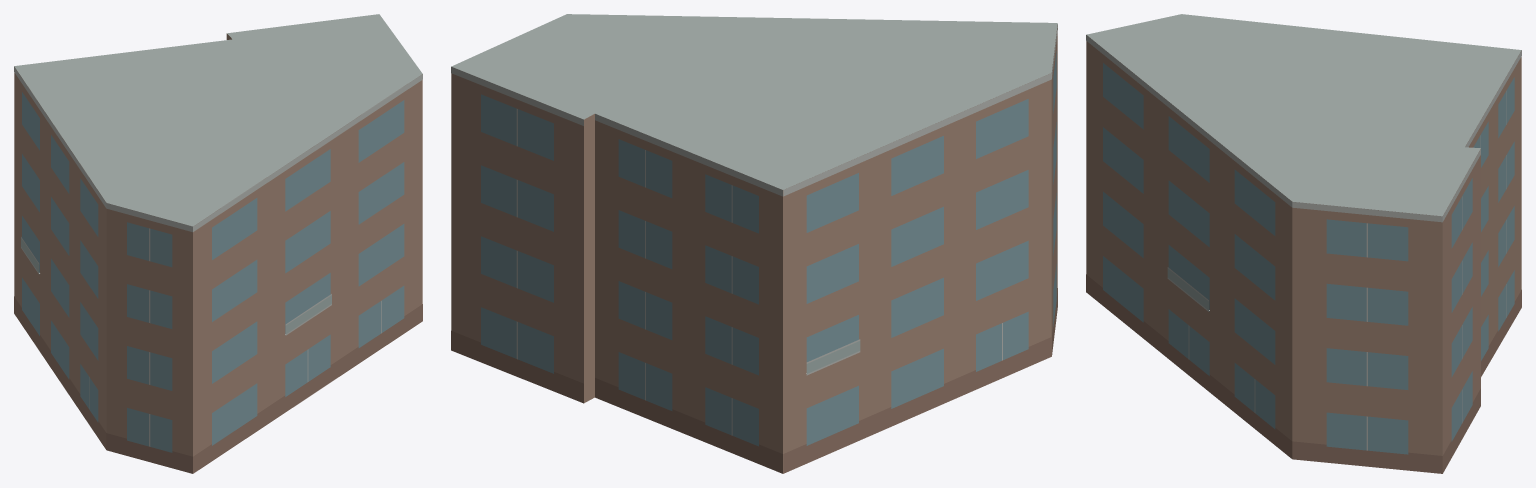
Rendered from survey-upis-32880962.glb.
3 views of the same model, side by side, from view 1: azimuth 30°, elevation 25°; view 2: azimuth 150°, elevation 25°; view 3: azimuth 270°, elevation 25° (orthographic). The views are drawn at different scales.
Parts seen in each view (by area): view 1: survey-upis-32880962.tmp; view 2: survey-upis-32880962.tmp; view 3: survey-upis-32880962.tmp.
Boxes of the visible parts, x1,y1,x2,y2 form: survey-upis-32880962.tmp: [14, 14, 422, 473]; survey-upis-32880962.tmp: [451, 14, 1057, 473]; survey-upis-32880962.tmp: [1086, 14, 1521, 473].
Size of the model in its own units: 17.7 by 10.5 by 16.1.
